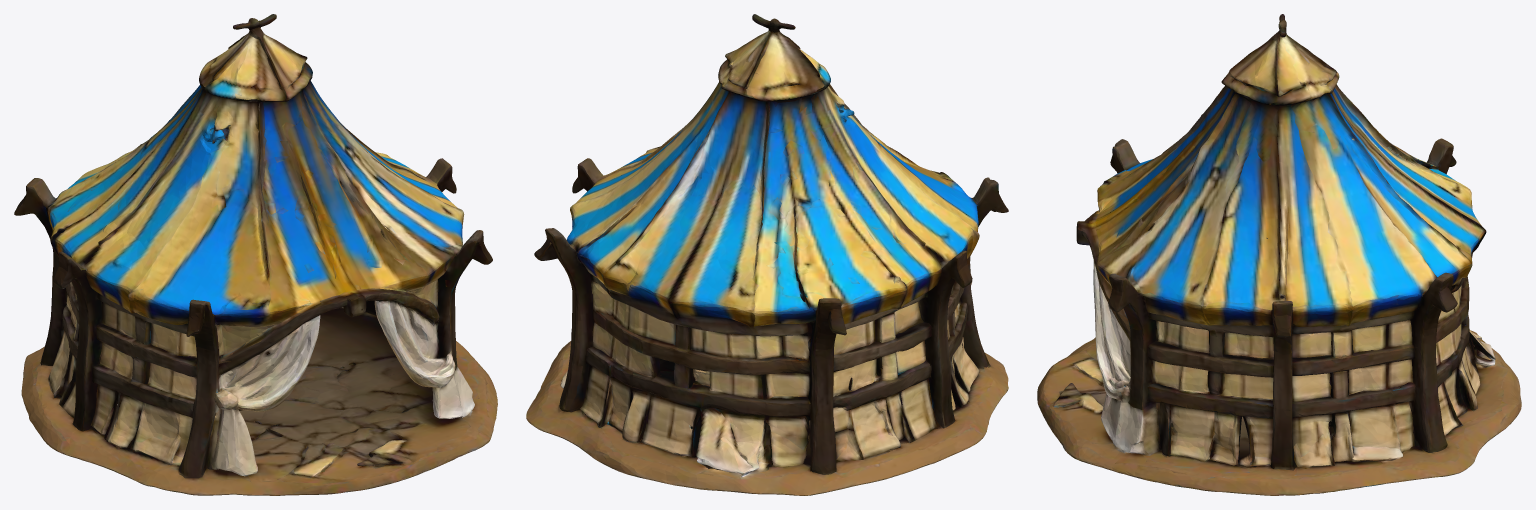
File: war_command_tent_01.glb
The picture shows the model from 3 angles, left to right: view 1: azimuth 30°, elevation 25°; view 2: azimuth 150°, elevation 25°; view 3: azimuth 270°, elevation 25°; orthographic projection.
Visible parts, largest first — view 1: geometry_0; view 2: geometry_0; view 3: geometry_0.
Boxes of the visible parts, box(x1,y1,x2,y2) form: geometry_0: box(14, 14, 497, 495); geometry_0: box(526, 14, 1008, 495); geometry_0: box(1037, 14, 1521, 495).
Bounding box in the file's own units: 0.9704 × 0.8562 × 1.
Materials: 1 (1 with a texture image).
